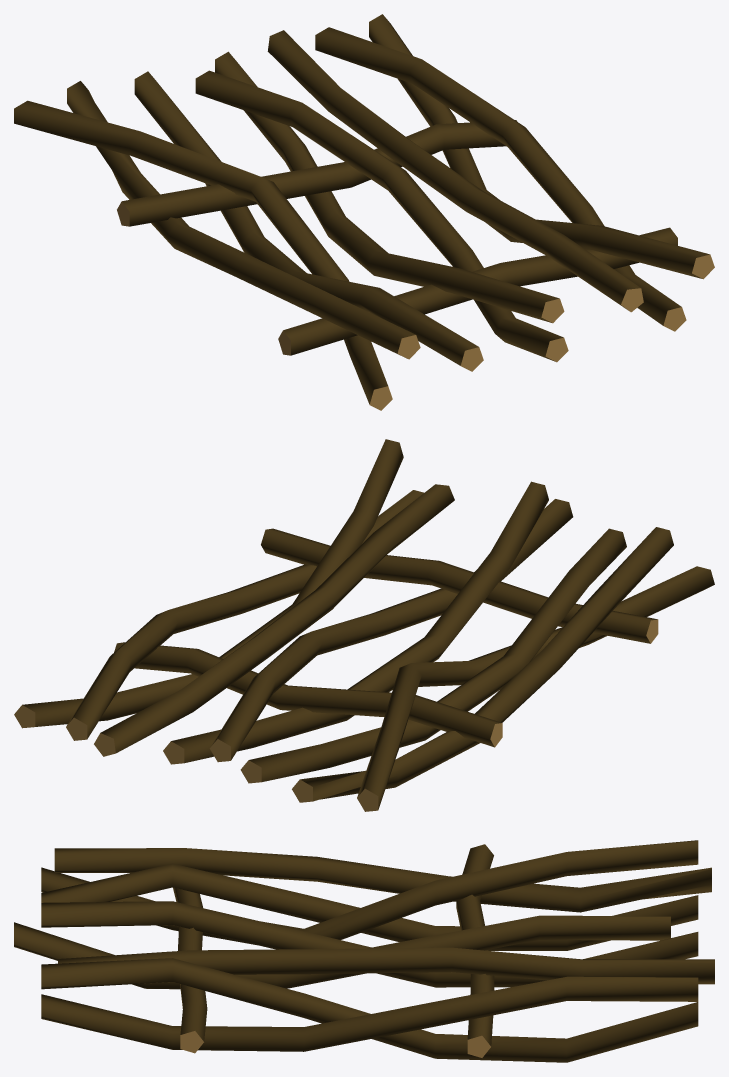
File: Westland_Bridge_Section.fbx
3 renders of one model, top to bottom at view 1: azimuth 30°, elevation 25°; view 2: azimuth 150°, elevation 25°; view 3: azimuth 270°, elevation 25°, orthographic. The views are drawn at different scales.
Visible parts, largest first — view 1: Westland_Bridge_Section; view 2: Westland_Bridge_Section; view 3: Westland_Bridge_Section.
Part boxes in pixels (x1,y1,x2,y2): Westland_Bridge_Section: (14,14,714,410); Westland_Bridge_Section: (14,439,714,811); Westland_Bridge_Section: (14,840,714,1062).
Size of the model in its own units: 322 by 80.59 by 533.
